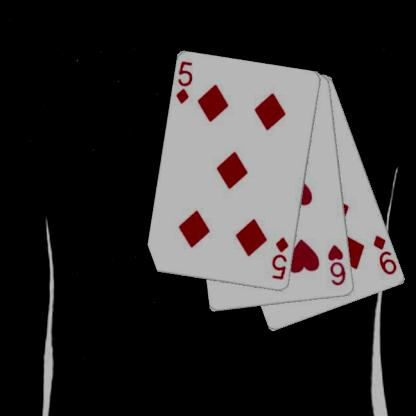5D: (173, 58, 194, 106), (269, 235, 290, 281)
6H: (326, 242, 348, 287)
9D: (370, 232, 398, 276)
